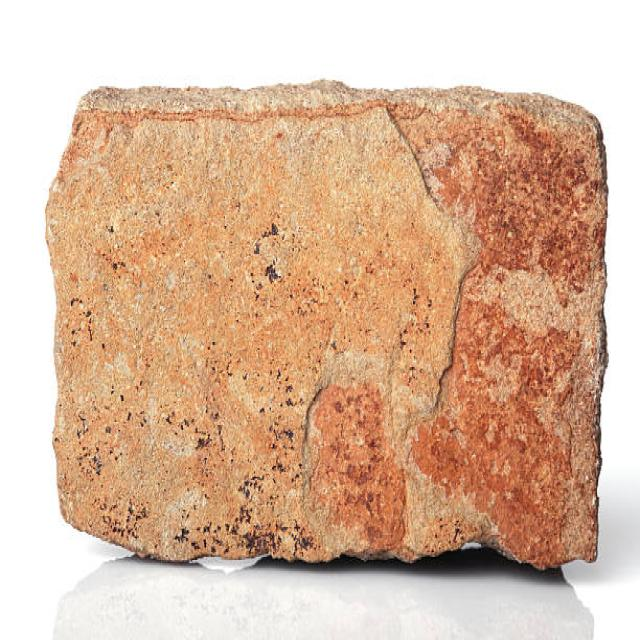Metamorphic: (43, 74, 606, 580)
